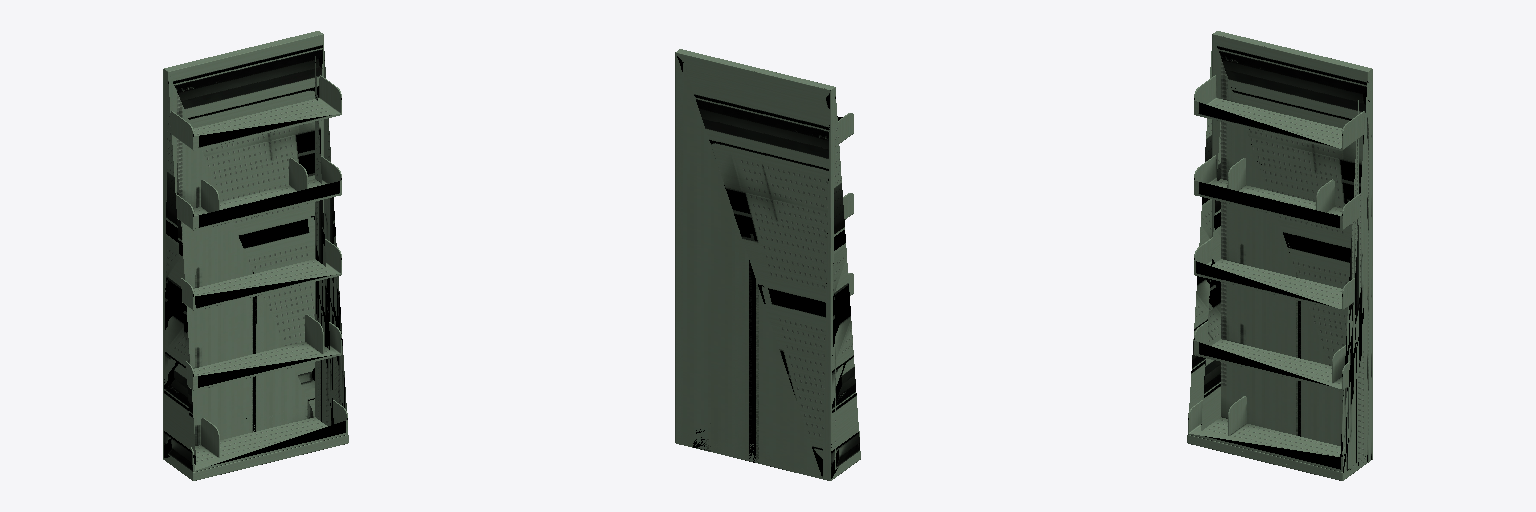
3 renders of one model, left to right at view 1: azimuth 30°, elevation 25°; view 2: azimuth 150°, elevation 25°; view 3: azimuth 330°, elevation 25°, orthographic.
Parts seen in each view (by area): view 1: 10230_Garage_Shelves_Metal_v1.001; view 2: 10230_Garage_Shelves_Metal_v1.001; view 3: 10230_Garage_Shelves_Metal_v1.001.
Part boxes in pixels (x1,y1,x2,y2): 10230_Garage_Shelves_Metal_v1.001: (163,31,348,480); 10230_Garage_Shelves_Metal_v1.001: (675,49,860,480); 10230_Garage_Shelves_Metal_v1.001: (1187,31,1372,480).
Size of the model in its own units: 0.9149 by 2.2 by 0.3049.
1 materials, 1 textured.